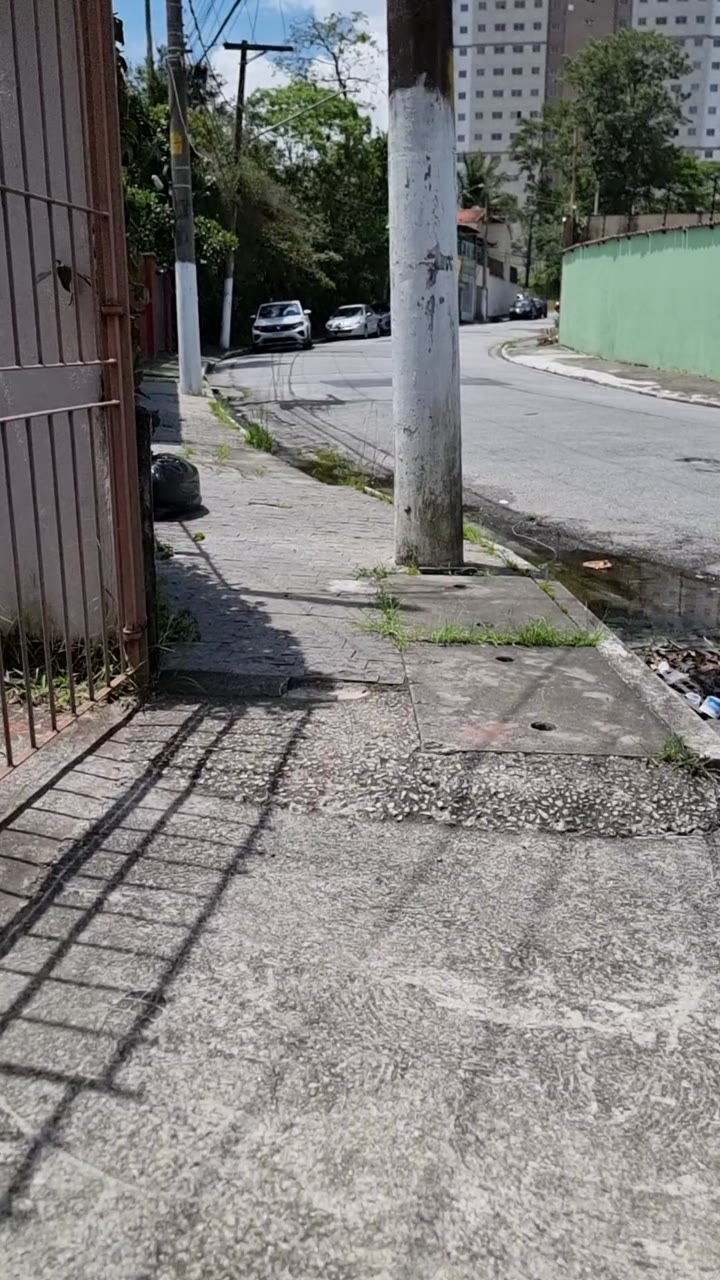desnivel: (216, 730, 720, 845)
obstaculo: (389, 0, 468, 576), (648, 627, 720, 730), (152, 453, 201, 517)
